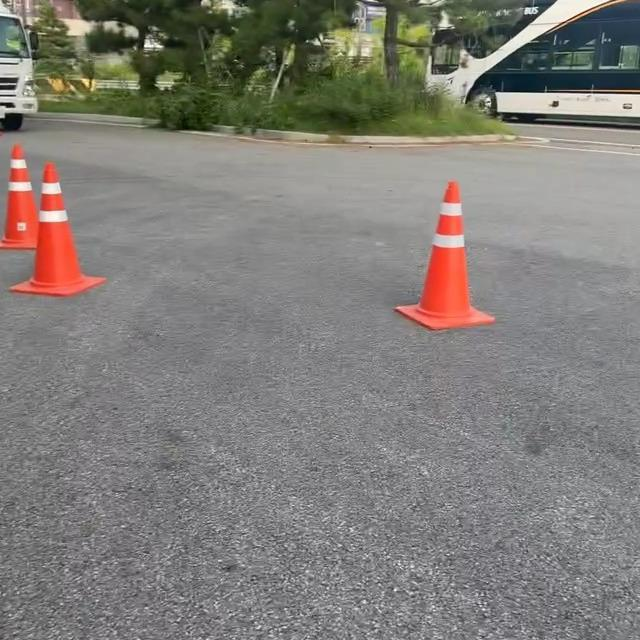fallen_object: (397, 152, 486, 324), (9, 156, 94, 304), (9, 129, 41, 247)
